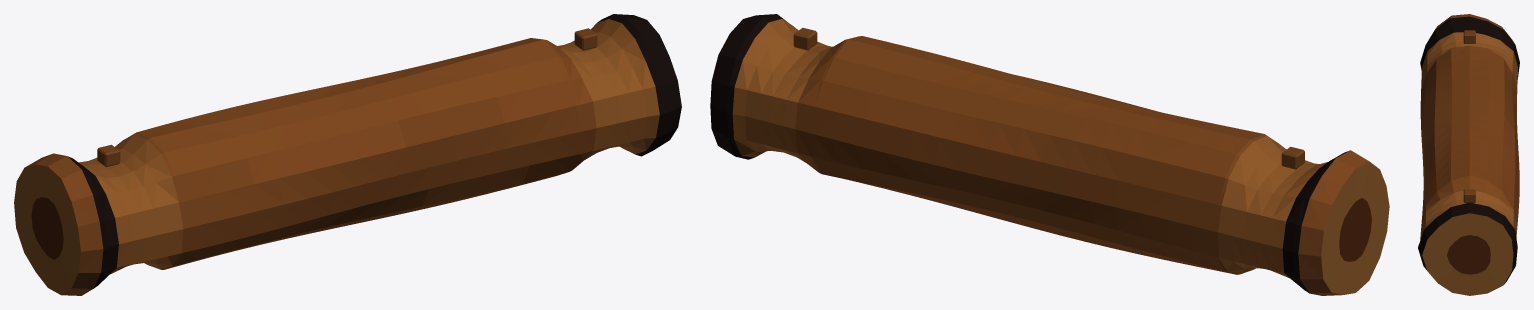
The model's file is mod_notched_log_saddle_2m.glb.
3 views of the same model, side by side, from view 1: azimuth 30°, elevation 25°; view 2: azimuth 150°, elevation 25°; view 3: azimuth 270°, elevation 25° (orthographic). The views are drawn at different scales.
Parts seen in each view (by area): view 1: Mod_Notched_Log_Saddle_2m; view 2: Mod_Notched_Log_Saddle_2m; view 3: Mod_Notched_Log_Saddle_2m.
Boxes of the visible parts, <box> form: Mod_Notched_Log_Saddle_2m: <box>14,14,681,295</box>; Mod_Notched_Log_Saddle_2m: <box>710,14,1389,295</box>; Mod_Notched_Log_Saddle_2m: <box>1418,14,1519,295</box>.
Size of the model in its own units: 2.16 by 0.4595 by 0.4661.
